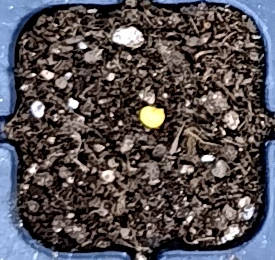pepper seed: (57, 41, 223, 170)
